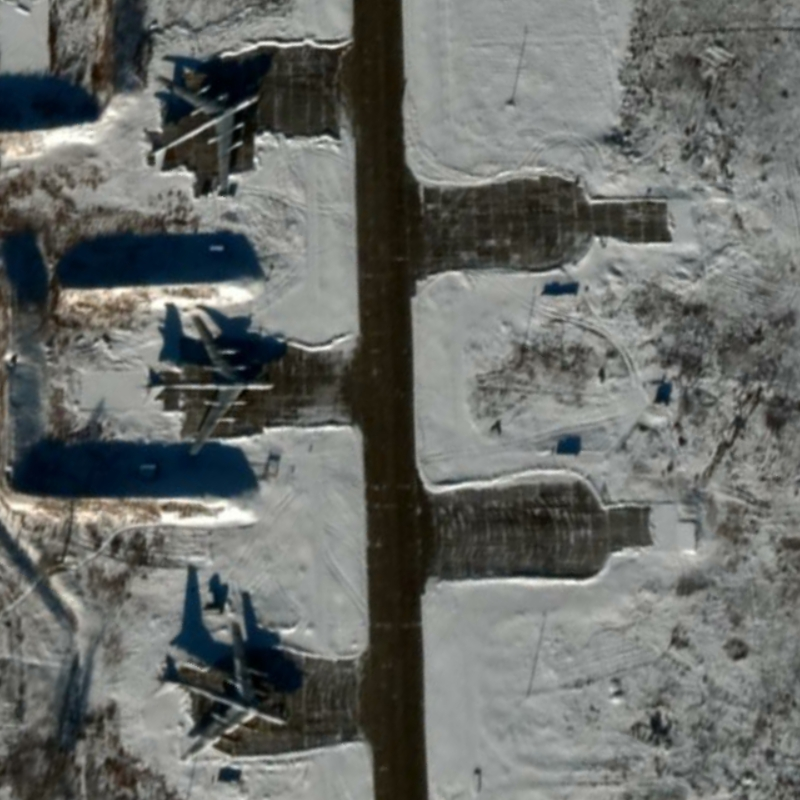A17: (151, 618, 290, 765), (138, 313, 278, 458), (139, 82, 263, 203)
